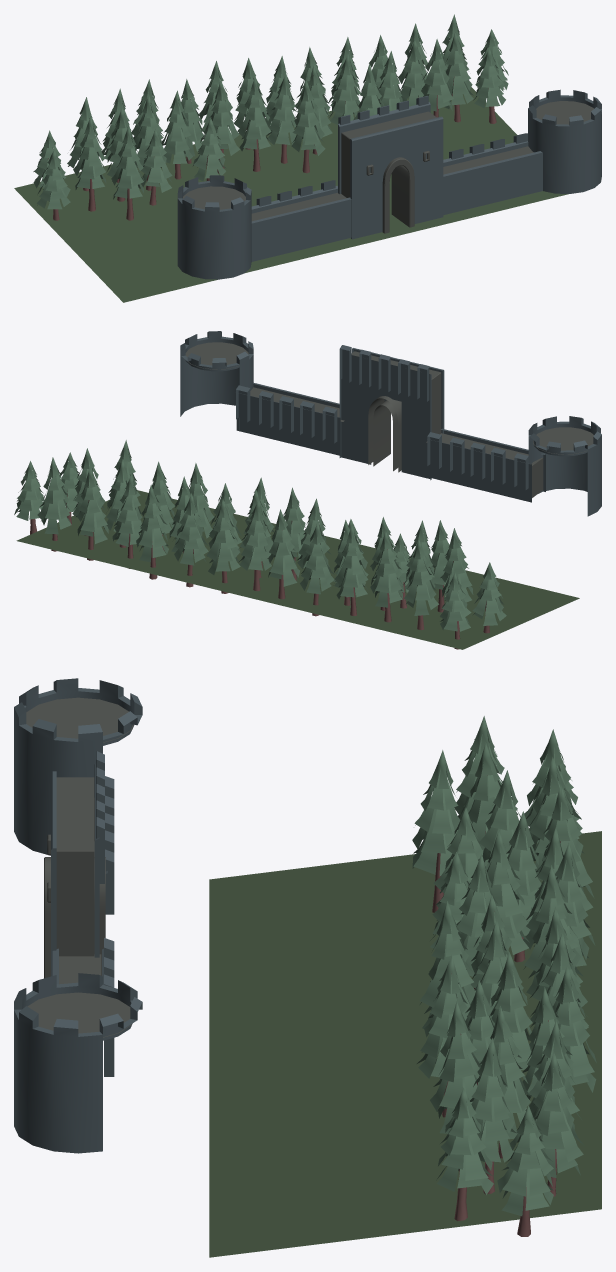
Rendered from the castle.fbx.
3 renders of one model, top to bottom at view 1: azimuth 30°, elevation 25°; view 2: azimuth 150°, elevation 25°; view 3: azimuth 270°, elevation 25°, orthographic. The views are drawn at different scales.
Visible parts, largest first — view 1: trees, wall; view 2: trees, wall; view 3: trees, wall.
Part boxes in pixels (bbox=[...]): trees: bbox=[14, 14, 568, 302]; wall: bbox=[177, 89, 601, 279]; trees: bbox=[14, 440, 579, 649]; wall: bbox=[180, 331, 601, 516]; trees: bbox=[209, 716, 601, 1257]; wall: bbox=[14, 678, 142, 1153].
Bounding box in the file's own units: 82.16 × 26.98 × 50.63.
